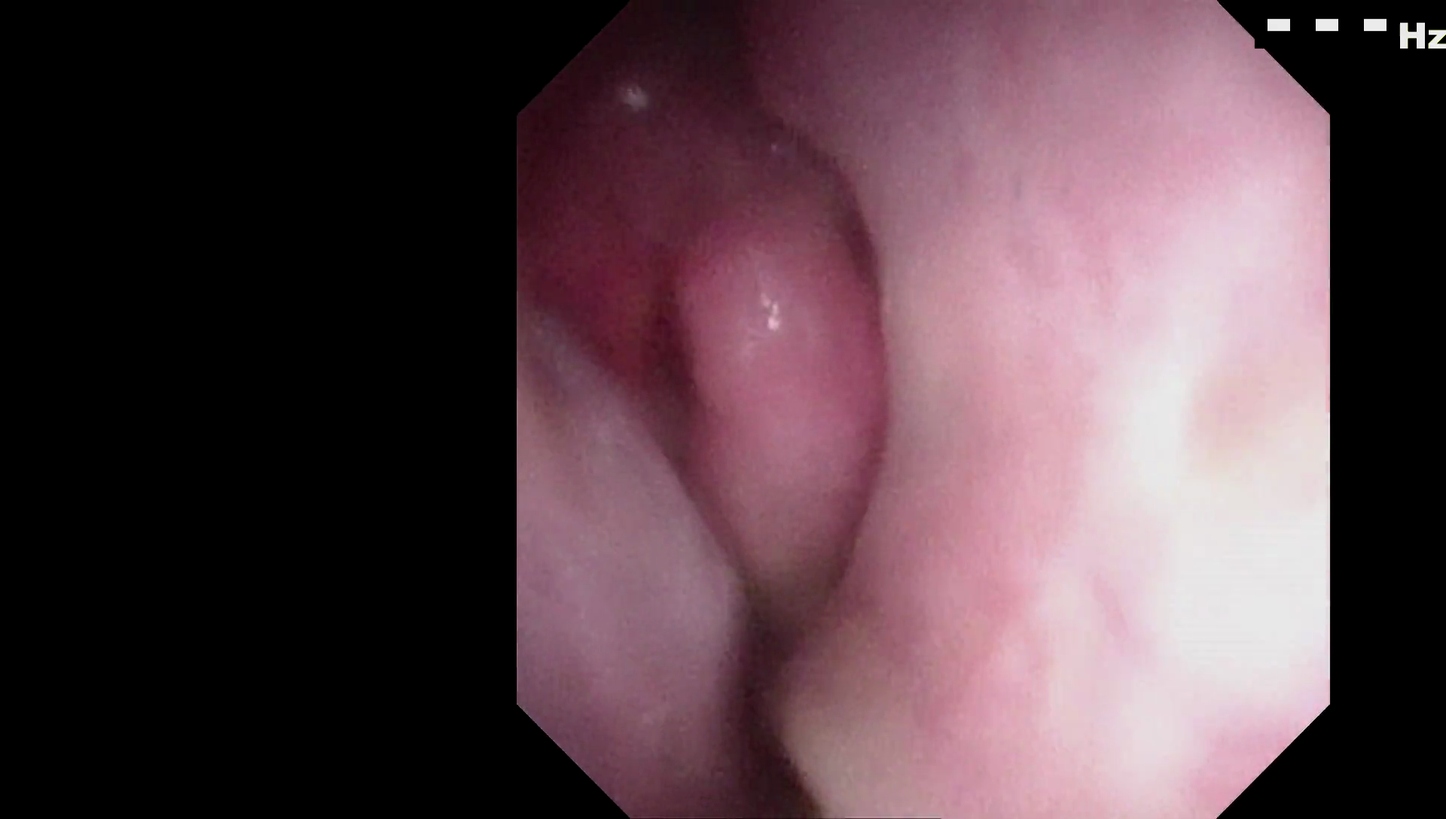close_wall: (962, 119, 1323, 693)
next: (673, 564, 836, 819), (632, 0, 792, 113)
